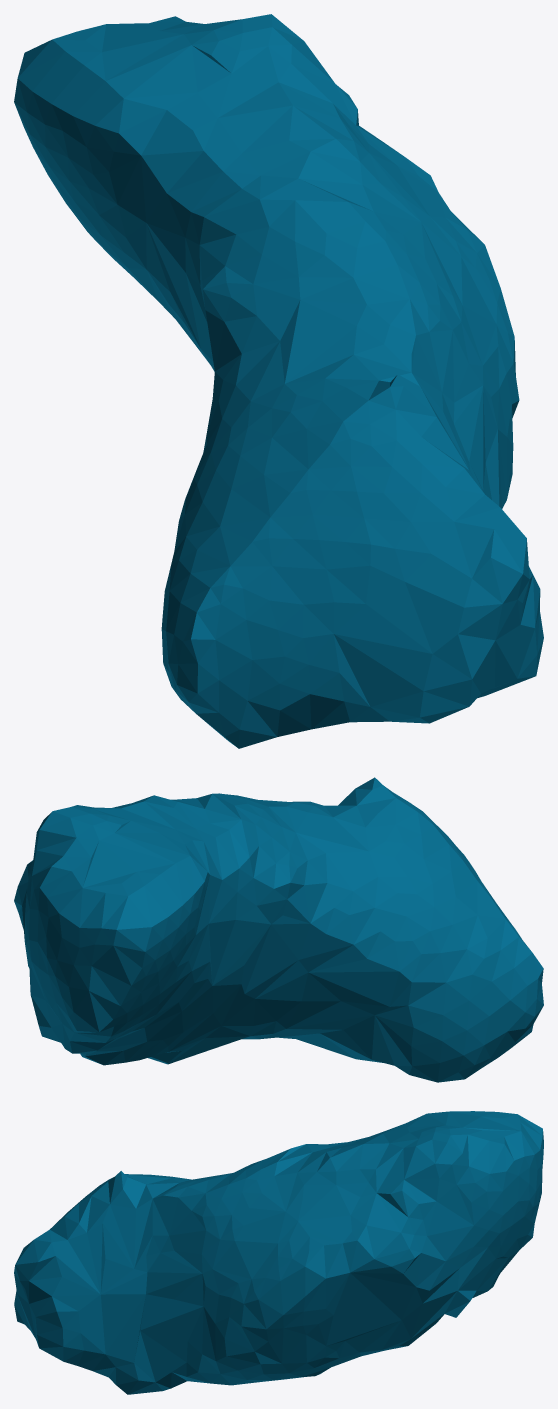
Rendered from Model_10305_LH__Ventrolateral_thalamic_nucleus__dorsal_part_(VLD).obj.
The picture shows the model from 3 angles, top to bottom: view 1: azimuth 30°, elevation 25°; view 2: azimuth 150°, elevation 25°; view 3: azimuth 270°, elevation 25°; orthographic projection. The views are drawn at different scales.
Size of the model in its own units: 1.26 by 1.18 by 2.09.
